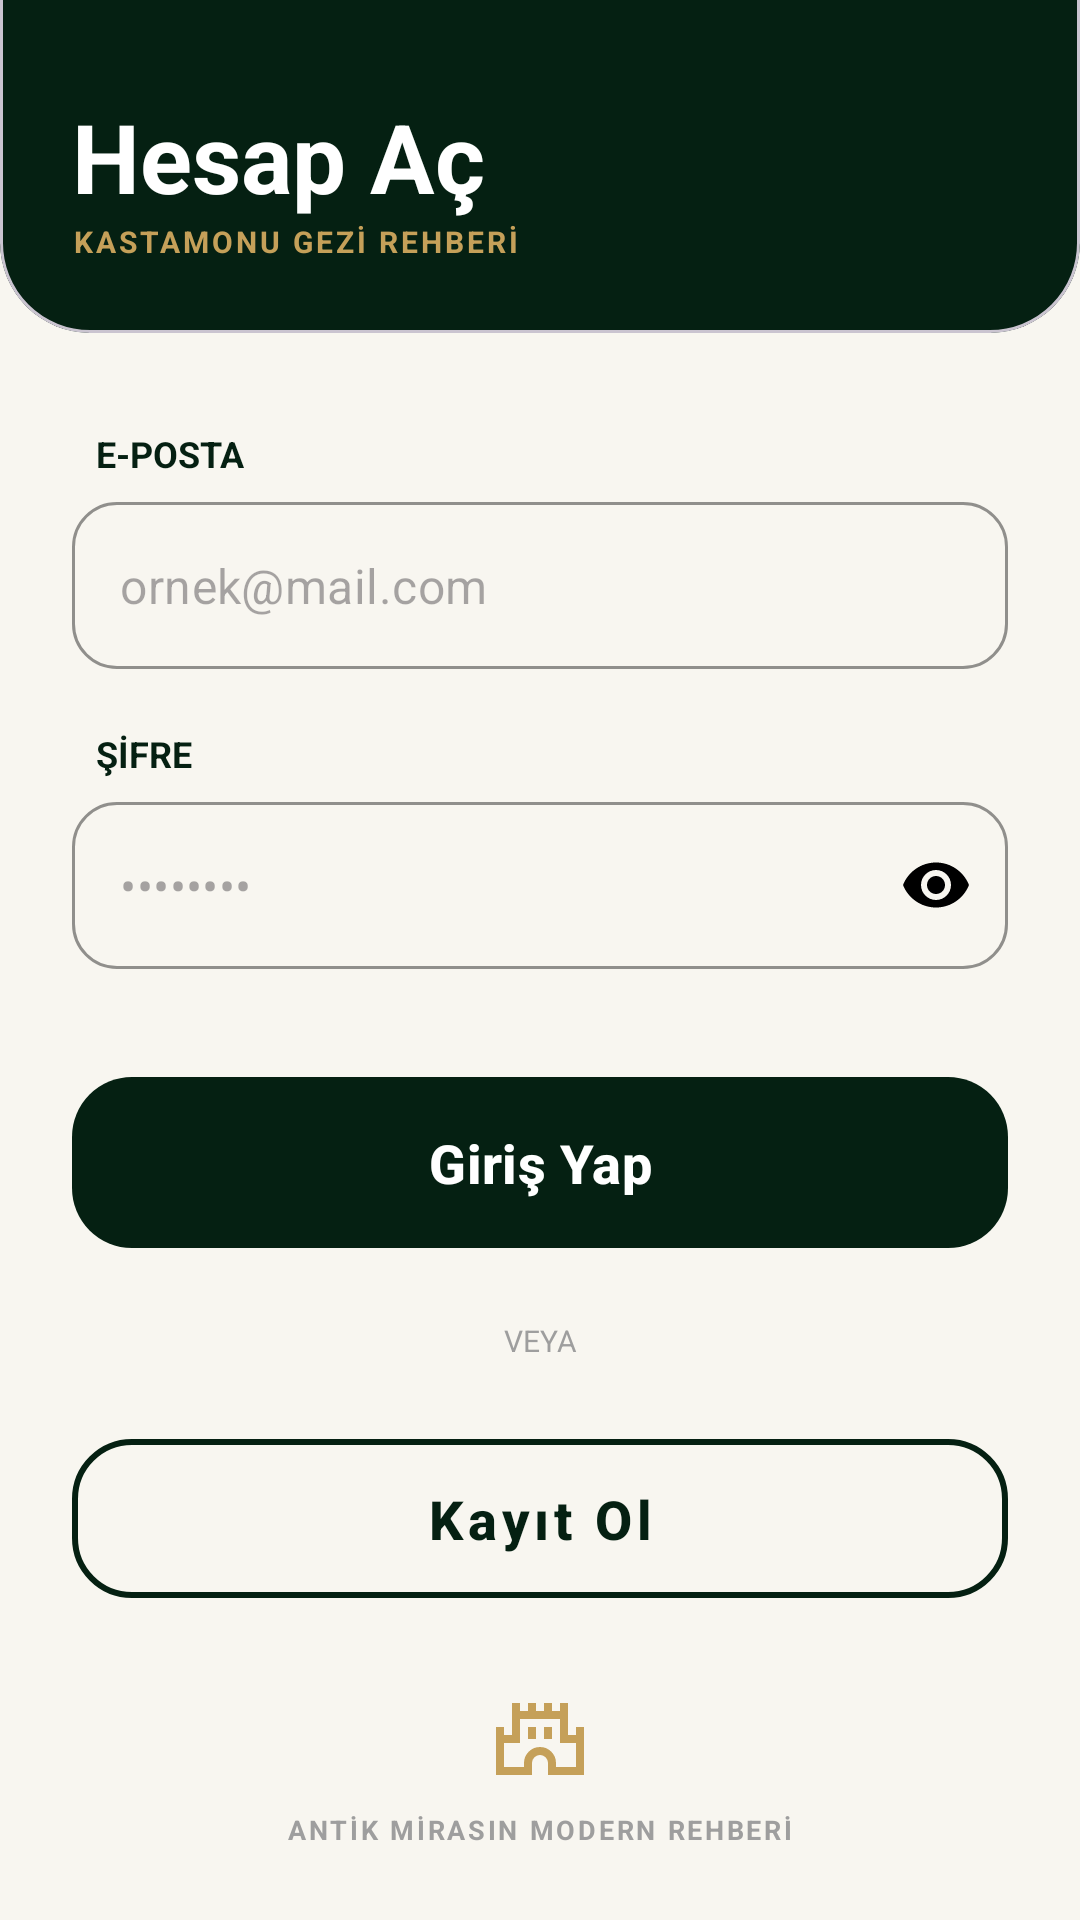

Named icons in this screenshot (1080 × 1920) and their bounding boxes, box(x1, y1, x2, y2):
castle: box(496, 1703, 584, 1775)
